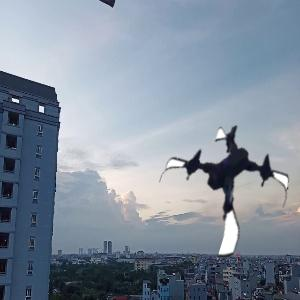drone: (156, 122, 294, 260)
